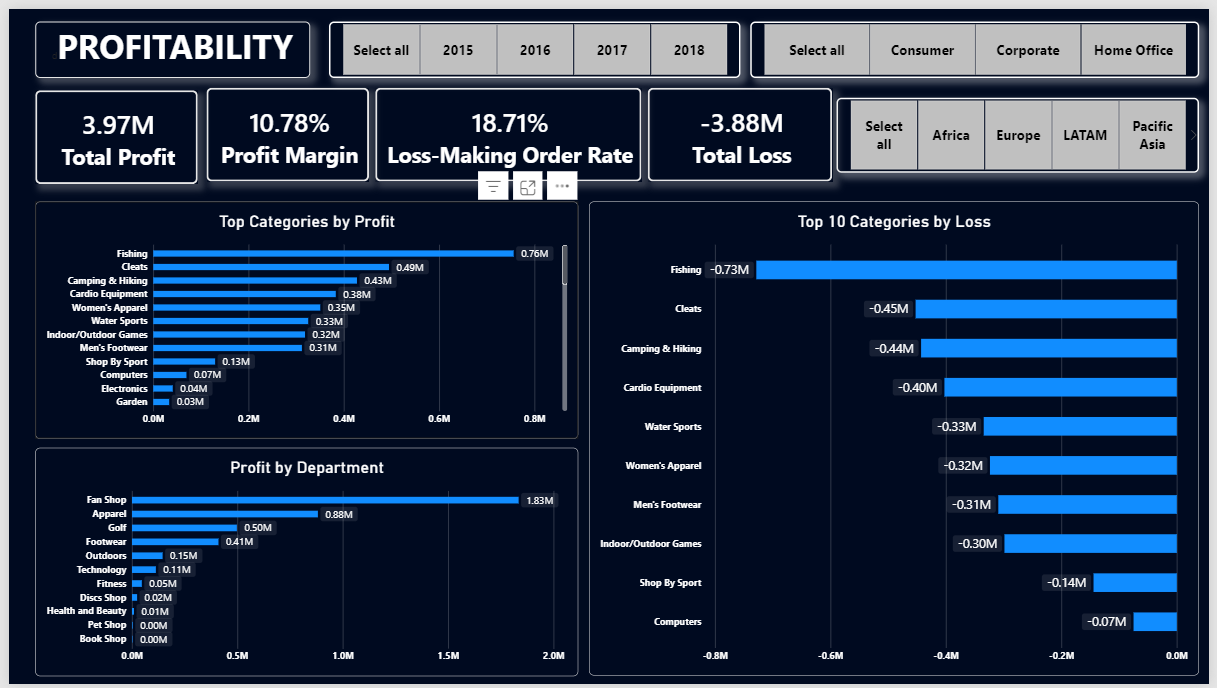

Layout of this report page (visuals, bound fields, positions):
{"tool":"powerbi","page":{"name":"Profitability","canvas":[1920,1080],"ordinal":2},"visuals":[{"type":"textbox","box":[42,20,440,90],"z":0},{"type":"slicer","title":"Order Year","fields":{"Values":["dataco vw_sales_summary.order_year"]},"box":[511.7,20,658.3,90],"z":1000},{"type":"slicer","title":"Market","fields":{"Values":["dataco vw_sales_summary.market"]},"box":[1324.6,141.5,580,120],"z":2000},{"type":"slicer","title":"Customer Segment","fields":{"Values":["dataco vw_sales_summary.customer_segment"]},"box":[1185,20,718.3,90],"z":3000},{"type":"cardVisual","fields":{"Data":["dataco vw_delivery_performance.Total Profit"]},"box":[42,130,260,150],"z":4000},{"type":"cardVisual","fields":{"Data":["dataco vw_delivery_performance.Profit Margin"]},"box":[315.6,125.6,260,150],"z":5000},{"type":"cardVisual","fields":{"Data":["dataco vw_delivery_performance.Loss-Making Order Rate"]},"box":[585.6,125.6,426.7,150],"z":6000},{"type":"cardVisual","fields":{"Data":["dataco vw_delivery_performance.Total Loss"]},"box":[1022.9,125.7,295.7,150],"z":7000},{"type":"clusteredBarChart","title":"Top Categories by Profit","fields":{"Category":["dataco vw_sales_summary.category_name"],"Y":["dataco vw_delivery_performance.Total Profit"]},"box":[41.4,308.6,868.6,380],"z":8000},{"type":"clusteredBarChart","title":"Profit by Department","fields":{"Category":["dataco vw_sales_summary.department_name"],"Y":["dataco vw_delivery_performance.Total Profit"]},"box":[41.4,701.4,868.6,365.7],"z":9000},{"type":"clusteredBarChart","title":"Top 10 Categories by Loss","fields":{"Category":["dataco vw_sales_summary.category_name"],"Y":["dataco vw_delivery_performance.Total Loss"]},"box":[927.1,308.6,975.7,758.6],"z":10000}]}

Visuals, with their boxes in screenshot pixels (x1, y1, x2, y2), scaled from the page's 1920x1080 canvas onto the 1217x688 screenshot:
textbox: 27:13:306:70
"Order Year" slicer: 324:13:742:70
"Market" slicer: 840:90:1207:167
"Customer Segment" slicer: 751:13:1206:70
cardVisual - dataco vw_delivery_performance.Total Profit: 27:83:191:178
cardVisual - dataco vw_delivery_performance.Profit Margin: 200:80:365:176
cardVisual - dataco vw_delivery_performance.Loss-Making Order Rate: 371:80:642:176
cardVisual - dataco vw_delivery_performance.Total Loss: 648:80:836:176
"Top Categories by Profit" clusteredBarChart: 26:197:577:439
"Profit by Department" clusteredBarChart: 26:447:577:680
"Top 10 Categories by Loss" clusteredBarChart: 588:197:1206:680
